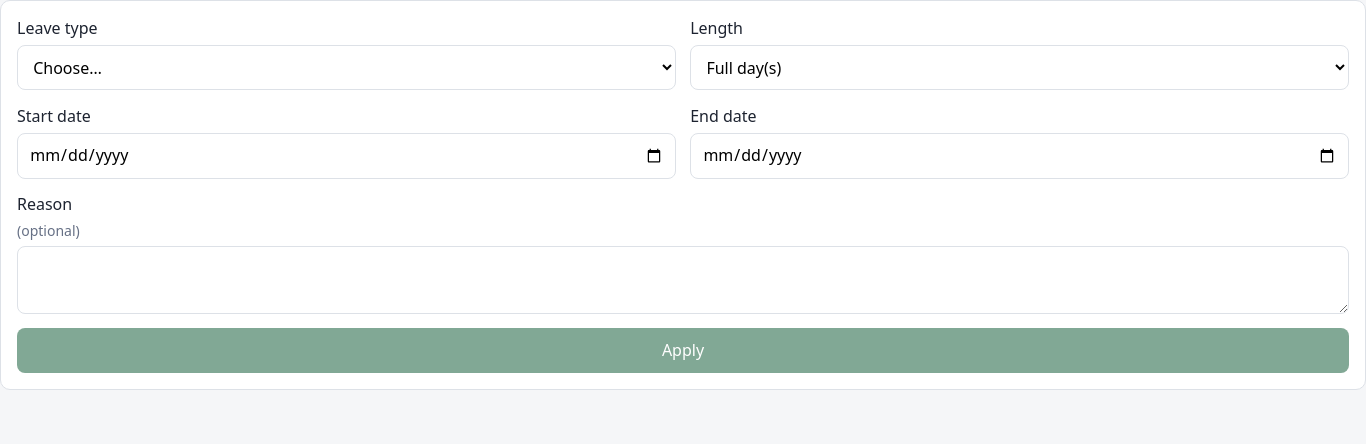
Test: ApplyLeaveForm › half days (US-15) › a morning asks for one date and sends it as start and end
Select "Annual (14 available)" in the dropdown labelled "Leave type": (346, 68) [17,45,676,90]
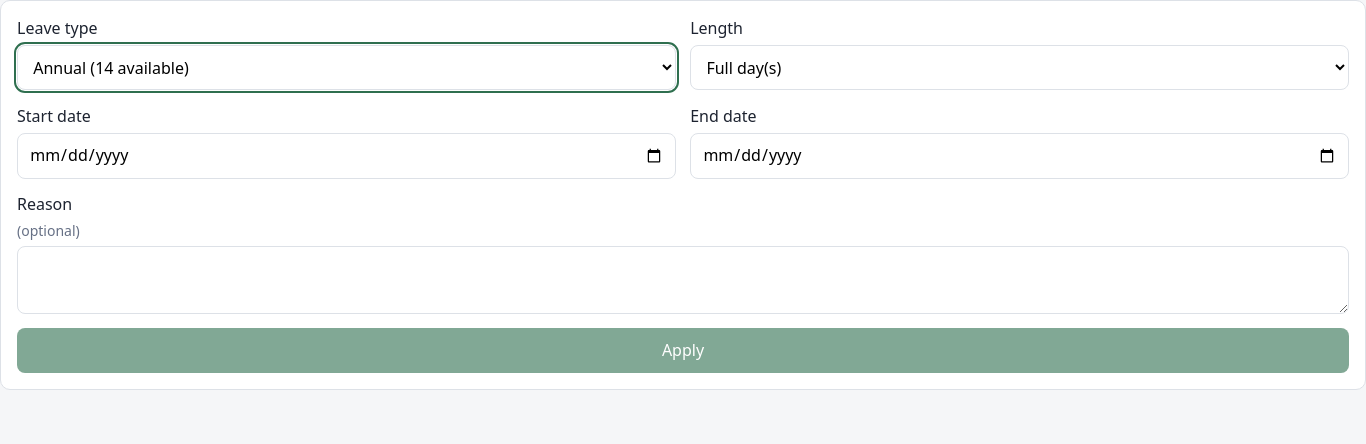
Select "Morning only (½ day)" in the dropdown labelled "Length": (1020, 68) [690,45,1349,90]
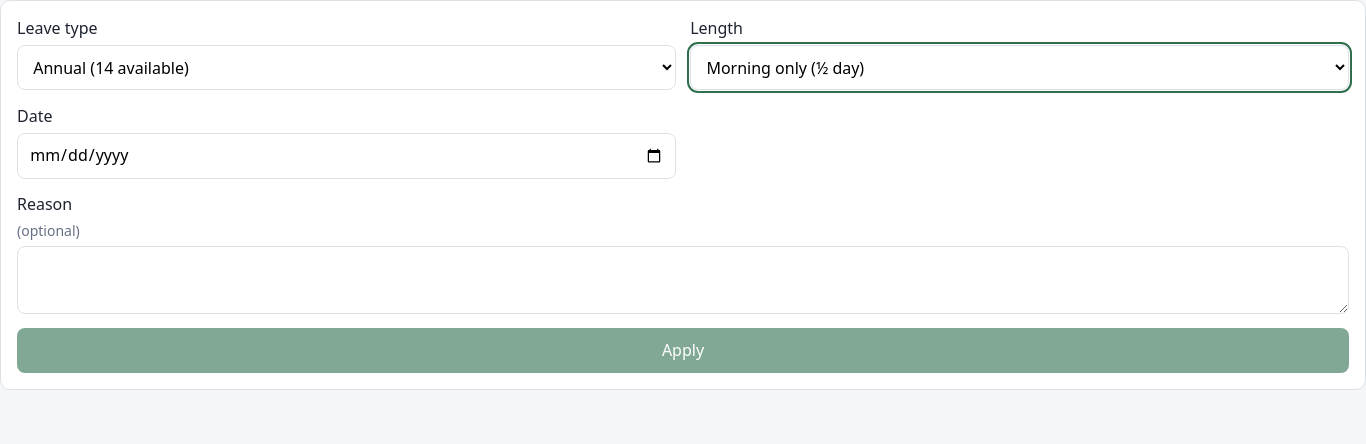
Now the label labelled "End date" is gone
In the date field labelled "Date": (346, 156) [17,132,676,179], type "2026-03-09"
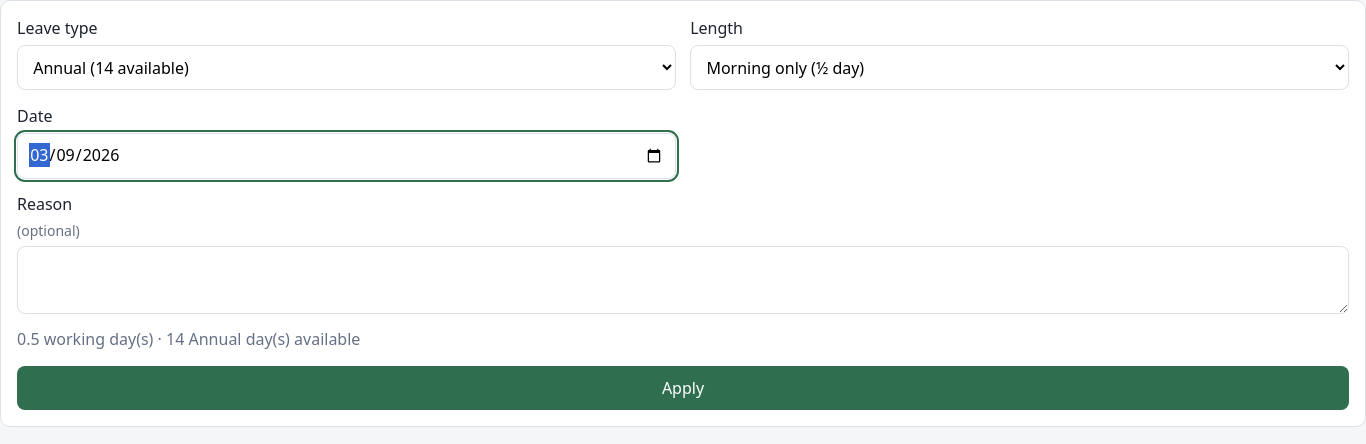
Now the text "0.5 working day(s) · 14 Annual day(s) available" is shown, box [17,328,360,350]
Click the button "Apply": (683, 388) [17,366,1349,410]
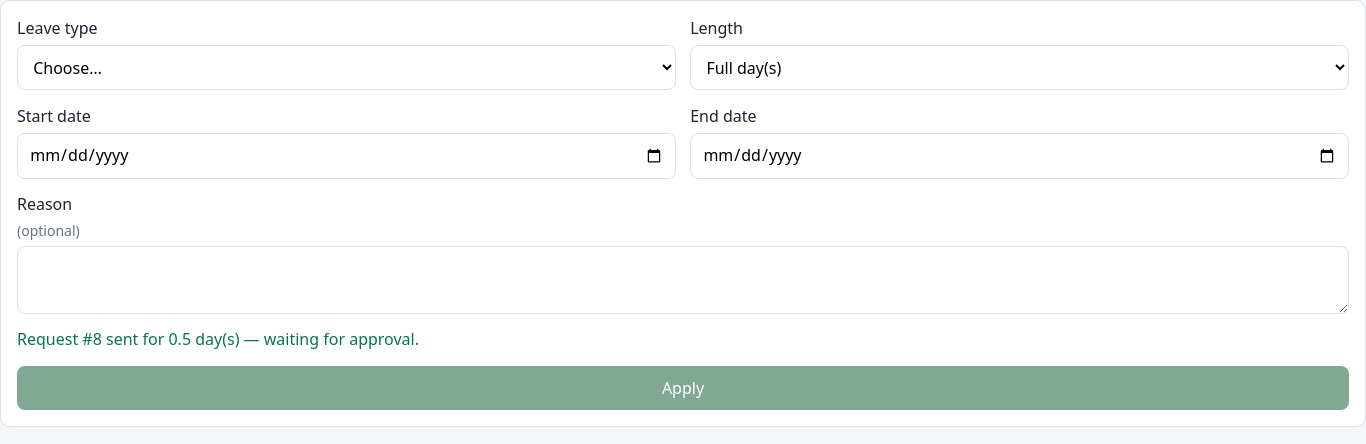
Now the message shows "Request #8 sent for 0.5 day(s)", box [17,328,419,350]
